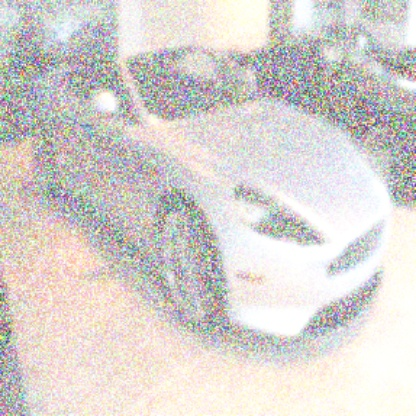Vehicle: (28, 35, 396, 346)
